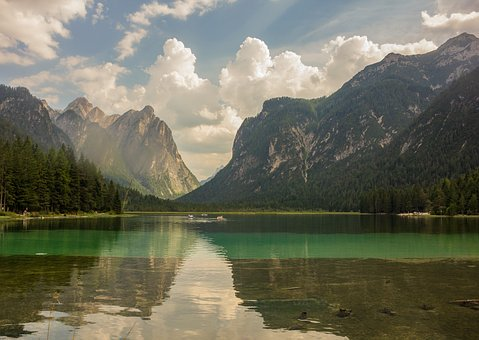lake: (9, 213, 474, 334)
mountain: (234, 34, 479, 210), (1, 91, 201, 211)
sky: (3, 3, 343, 126)
